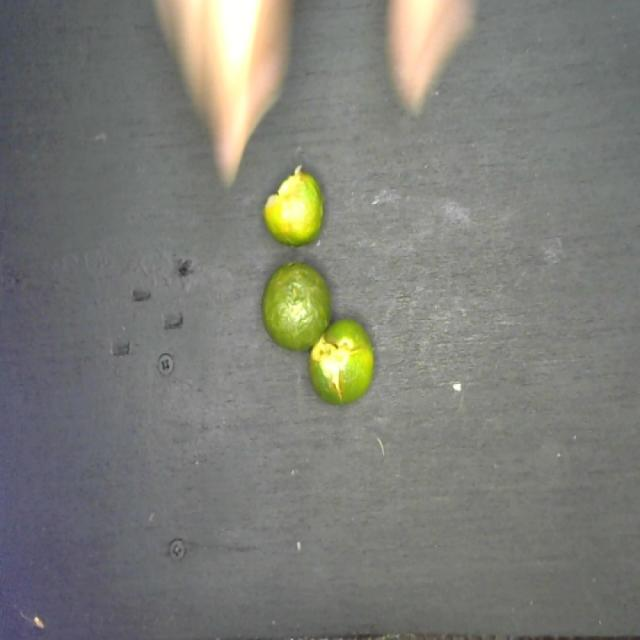biodegradable: (254, 158, 381, 417)
